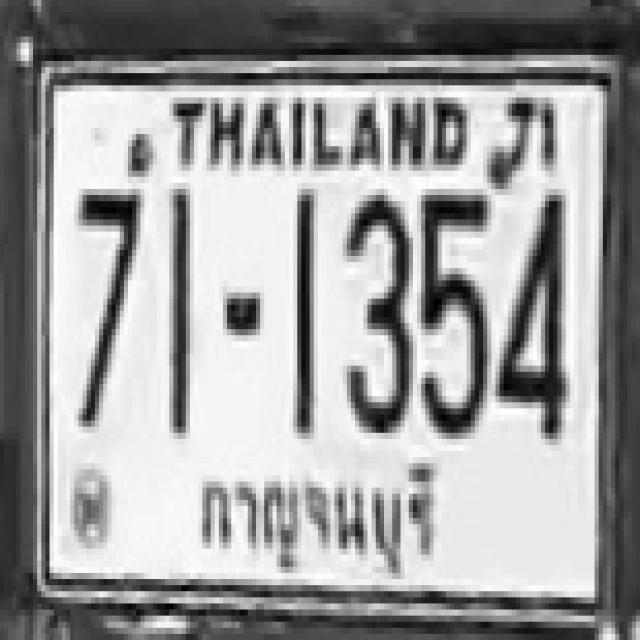1: (165, 183, 190, 433), (291, 186, 312, 436)
3: (342, 189, 408, 427)
4: (496, 189, 562, 433)
5: (417, 189, 487, 433)
7: (73, 186, 138, 424)
Kanchanaburi: (179, 451, 449, 578)
